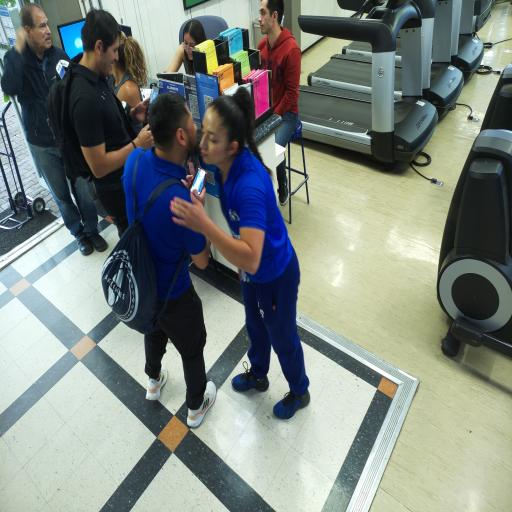person: (171, 88, 309, 418), (123, 93, 215, 426), (2, 4, 107, 255), (69, 9, 152, 236), (258, 0, 301, 146), (111, 32, 148, 106), (167, 19, 206, 75)
